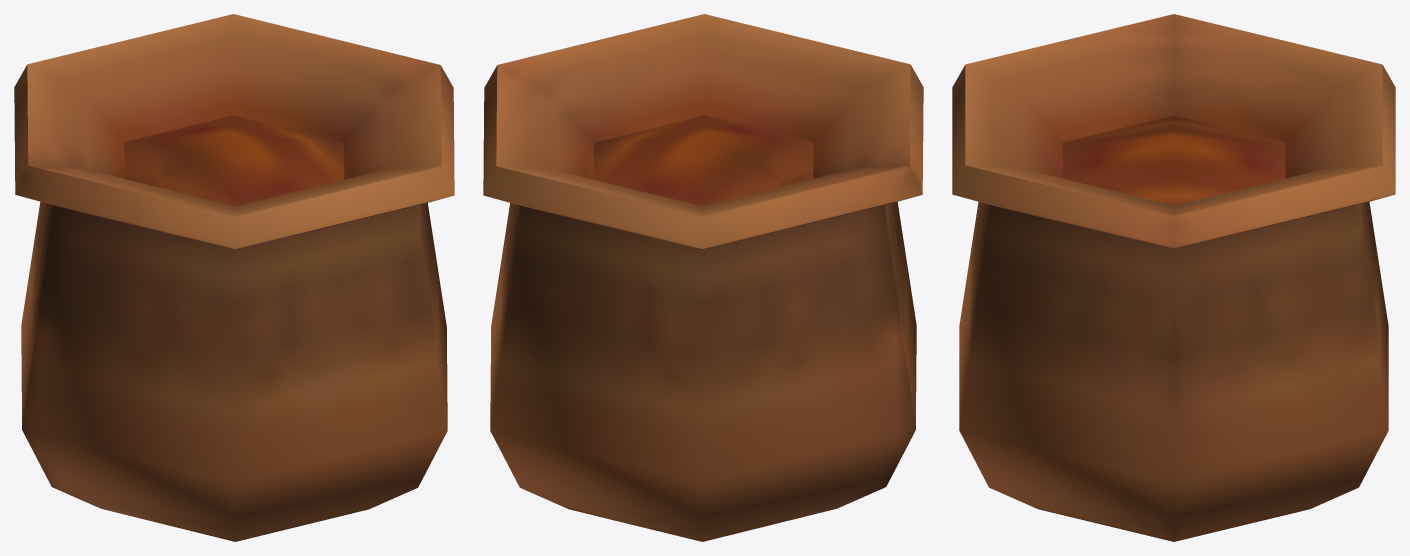
Rendered from Honey_Pot.gltf.
3 renders of one model, left to right at view 1: azimuth 30°, elevation 25°; view 2: azimuth 150°, elevation 25°; view 3: azimuth 270°, elevation 25°, orthographic.
Visible parts, largest first — view 1: Honey_Pot; view 2: Honey_Pot; view 3: Honey_Pot.
Part boxes in pixels (box(x1,y1,x2,y2)): Honey_Pot: box(14, 14, 454, 541); Honey_Pot: box(483, 14, 923, 541); Honey_Pot: box(952, 14, 1395, 541).
Bounding box in the file's own units: 11.18 × 8.79 × 9.76.
1 material, 1 textured.
